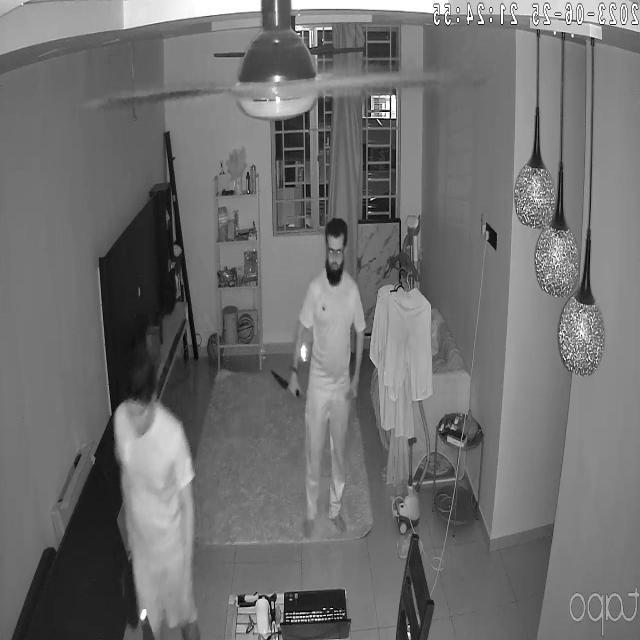Knife: (271, 362, 308, 402)
